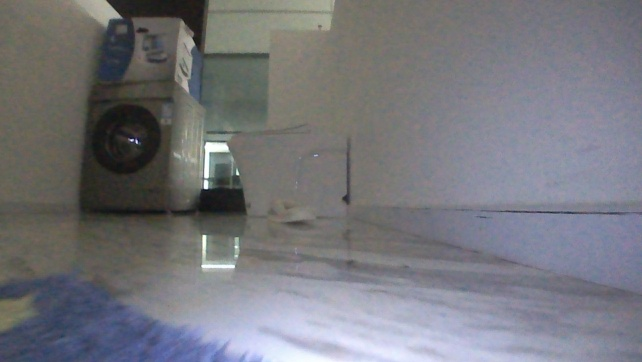refrigerator: (75, 77, 207, 215)
toilet: (224, 118, 351, 219), (259, 195, 323, 227)
